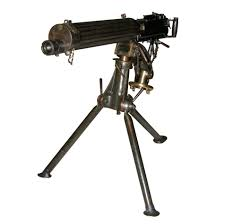gun: (35, 7, 179, 216)
